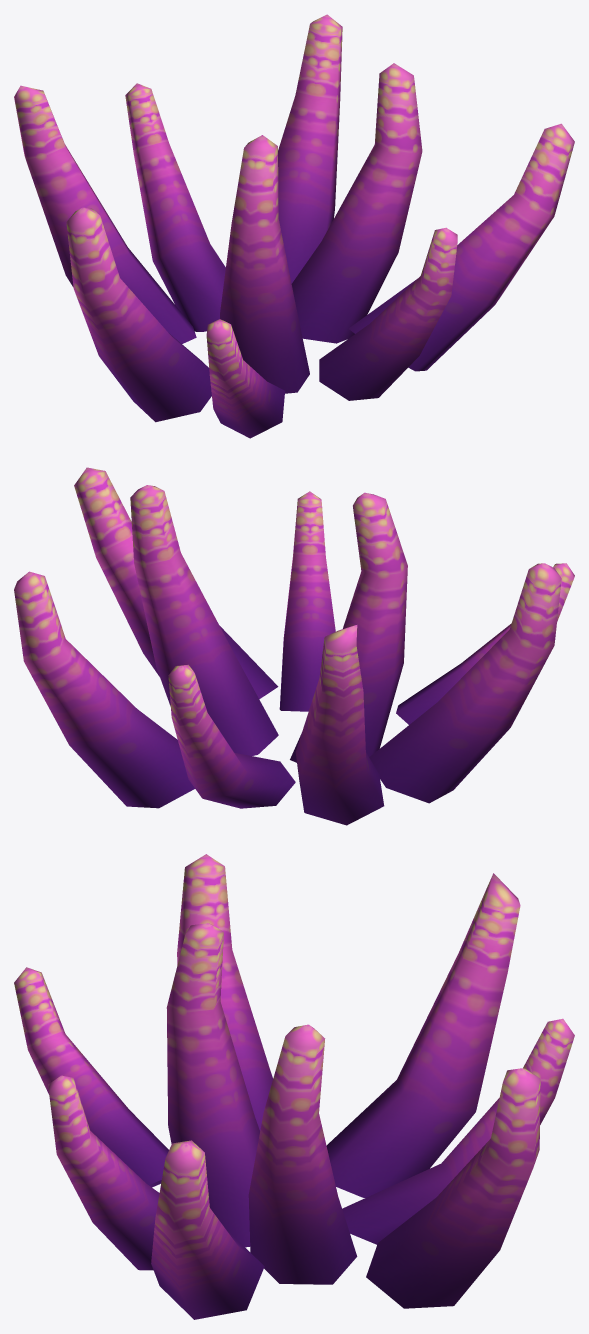
The model's file is Coral_13d.FBX.
3 views of the same model, one above another, from view 1: azimuth 30°, elevation 25°; view 2: azimuth 150°, elevation 25°; view 3: azimuth 270°, elevation 25° (orthographic). The views are drawn at different scales.
Parts seen in each view (by area): view 1: Coral_13d; view 2: Coral_13d; view 3: Coral_13d.
Part boxes in pixels (<box>): Coral_13d: <box>14,14,574,438</box>; Coral_13d: <box>14,467,574,825</box>; Coral_13d: <box>14,854,574,1319</box>.
Bounding box in the file's own units: 59.97 × 31.42 × 51.69.
